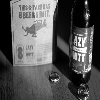beer: (70, 2, 93, 83)
